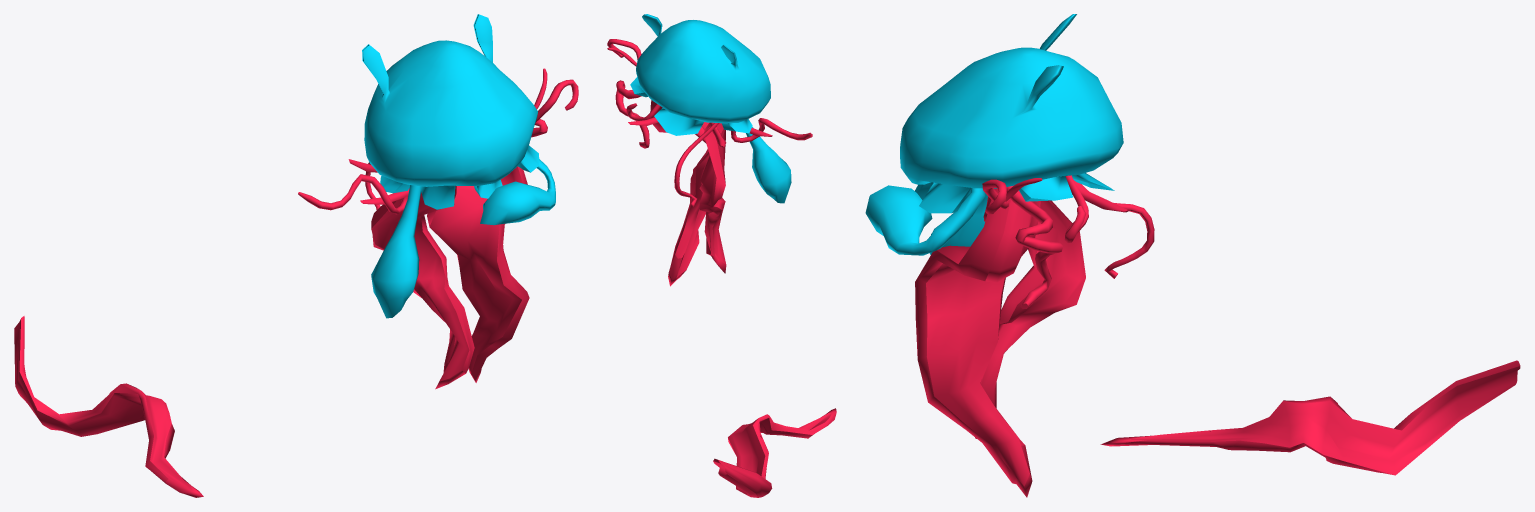
The model's file is JellyFish_State_1.fbx.
3 renders of one model, left to right at view 1: azimuth 30°, elevation 25°; view 2: azimuth 150°, elevation 25°; view 3: azimuth 270°, elevation 25°, orthographic. The views are drawn at different scales.
Visible parts, largest first — view 1: Jelly_Fish_Body, Main_Tentacle_Geo, Back_Tentacle, Left_Tentacle_geo, Left_Arm1, Left_Arm, extrudedSurface4; view 2: Jelly_Fish_Body, Back_Tentacle, Left_Tentacle_geo, Main_Tentacle_Geo, Left_Arm1, extrudedSurface3, extrudedSurface4, extrudedSurface2, Right_Question_Curve, extrudedSurface7; view 3: Jelly_Fish_Body, Main_Tentacle_Geo, Back_Tentacle, Left_Tentacle_geo, Left_Arm, extrudedSurface3, extrudedSurface2, Left_Arm1, extrudedSurface7.
Boxes of the visible parts, <box> form: Jelly_Fish_Body: <box>362,14,539,209</box>; Main_Tentacle_Geo: <box>427,166,529,382</box>; Back_Tentacle: <box>14,316,203,497</box>; Left_Tentacle_geo: <box>371,185,474,389</box>; Left_Arm1: <box>371,185,420,318</box>; Left_Arm: <box>480,159,555,225</box>; extrudedSurface4: <box>298,174,408,214</box>; Jelly_Fish_Body: <box>630,14,770,135</box>; Back_Tentacle: <box>713,408,836,497</box>; Left_Tentacle_geo: <box>699,123,726,273</box>; Main_Tentacle_Geo: <box>650,100,709,286</box>; Left_Arm1: <box>746,126,791,203</box>; extrudedSurface3: <box>615,80,649,148</box>; extrudedSurface4: <box>731,118,812,142</box>; extrudedSurface2: <box>674,123,719,206</box>; Right_Question_Curve: <box>607,39,641,59</box>; extrudedSurface7: <box>626,103,660,120</box>; Jelly_Fish_Body: <box>900,14,1123,213</box>; Main_Tentacle_Geo: <box>915,188,1040,497</box>; Back_Tentacle: <box>1100,360,1520,475</box>; Left_Tentacle_geo: <box>975,196,1085,438</box>; Left_Arm: <box>865,185,985,255</box>; extrudedSurface3: <box>1006,185,1062,308</box>; extrudedSurface2: <box>1077,182,1154,278</box>; Left_Arm1: <box>930,193,987,254</box>; extrudedSurface7: <box>1064,175,1088,242</box>.
Bounding box in the file's own units: 10.22 × 11.6 × 12.26.
